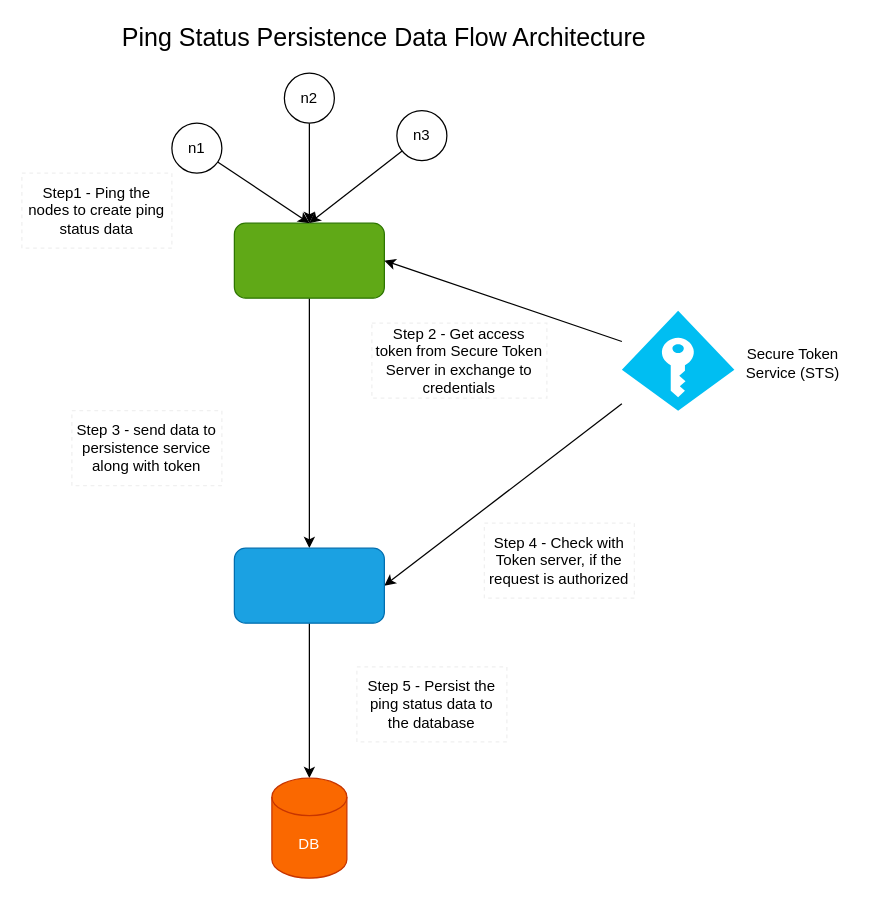
This 874x900 diagram has some shape labels left out. The centre of each missing label's shape, as x and y in pixels:
"ping status creation script" belongs at [308,260].
"ping status persistence service" belongs at [308,585].
